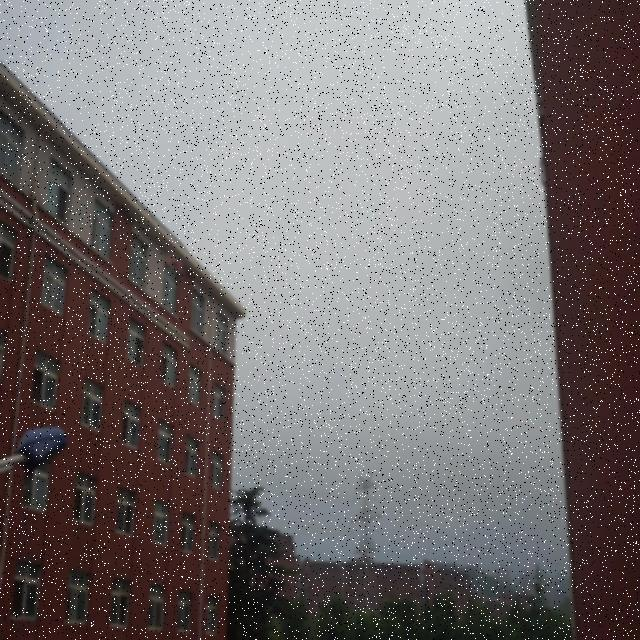UAV: (168, 253, 185, 274)
